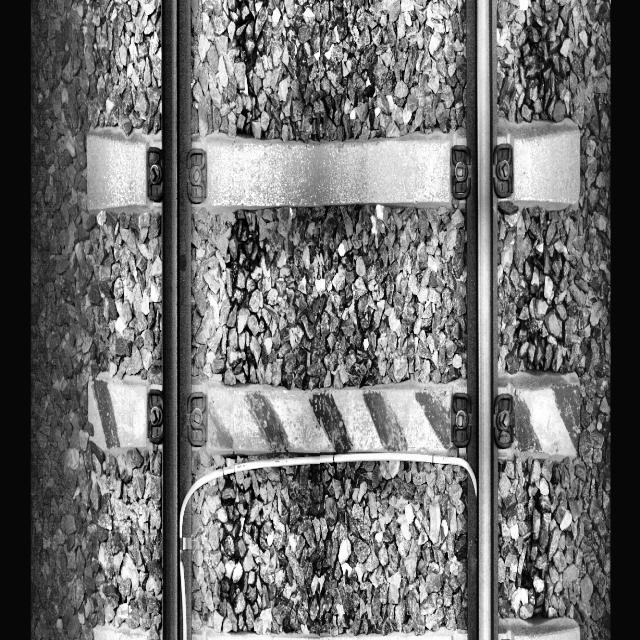Clips: (182, 146, 210, 206), (489, 141, 516, 202), (449, 389, 475, 448), (448, 139, 471, 204), (185, 392, 211, 449), (493, 395, 515, 454), (146, 145, 168, 201), (147, 388, 168, 444)
Sleepers: (86, 367, 584, 462), (85, 123, 583, 212)
